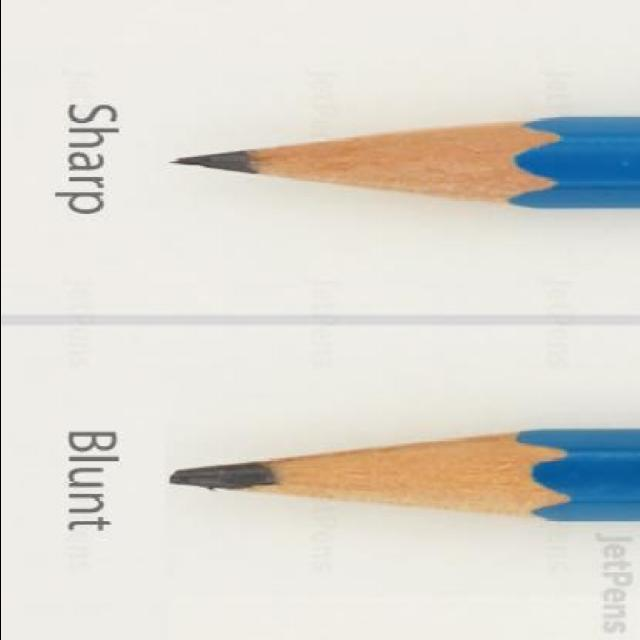Pencil: (122, 412, 640, 538), (145, 97, 638, 226)
